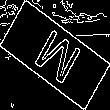M_SW: (27, 21, 83, 89)
